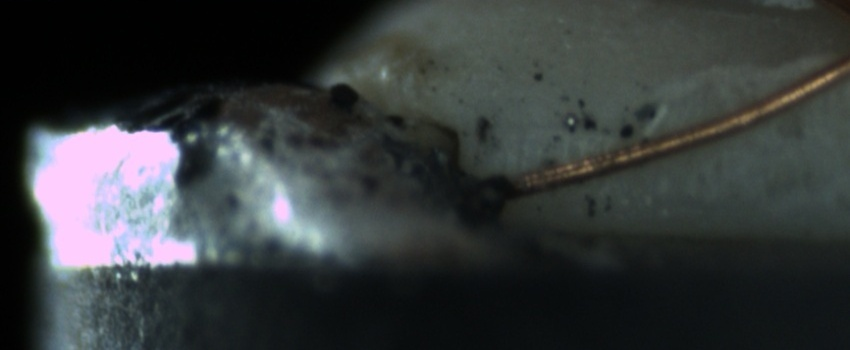DL: (508, 105, 637, 156)
